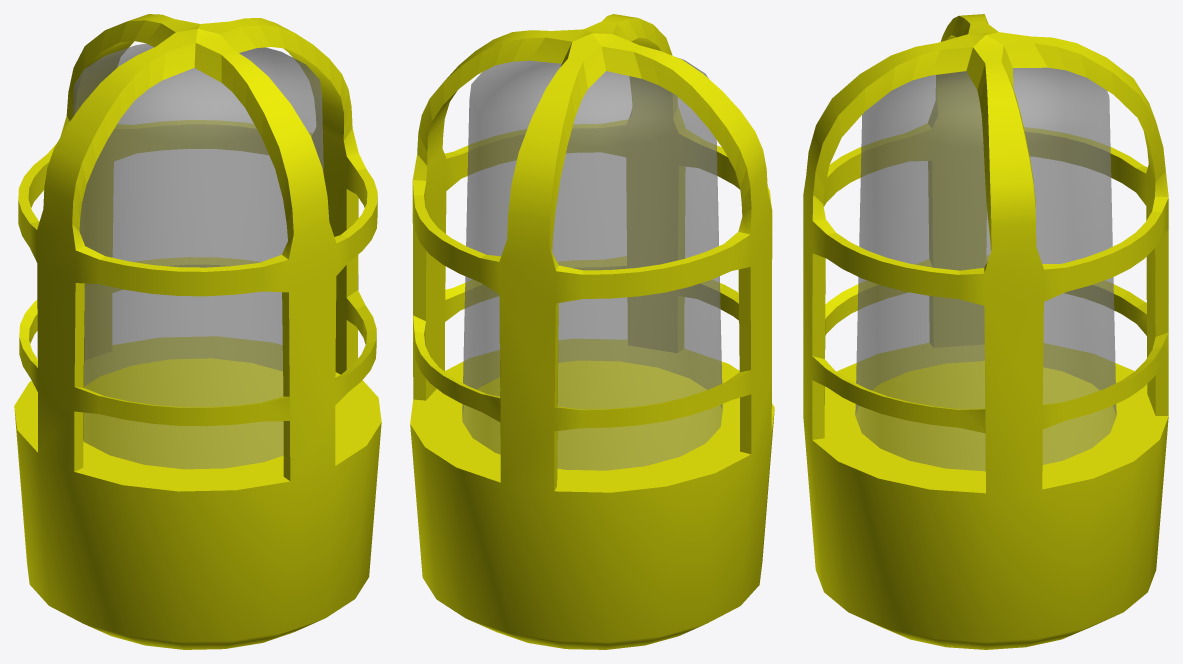
File: Industrial Light.fbx
The picture shows the model from 3 angles, left to right: view 1: azimuth 30°, elevation 25°; view 2: azimuth 150°, elevation 25°; view 3: azimuth 270°, elevation 25°; orthographic projection.
Visible parts, largest first — view 1: Frame, Glass; view 2: Frame, Glass; view 3: Frame, Glass.
Boxes of the visible parts, left/top/right/bottom form: Frame: left=14, top=14, right=381, bottom=649; Glass: left=73, top=43, right=323, bottom=469; Frame: left=410, top=14, right=774, bottom=649; Glass: left=462, top=57, right=722, bottom=470; Frame: left=803, top=14, right=1168, bottom=649; Glass: left=855, top=67, right=1116, bottom=471.
Bounding box in the file's own units: 0.1807 × 0.3058 × 0.1807.
